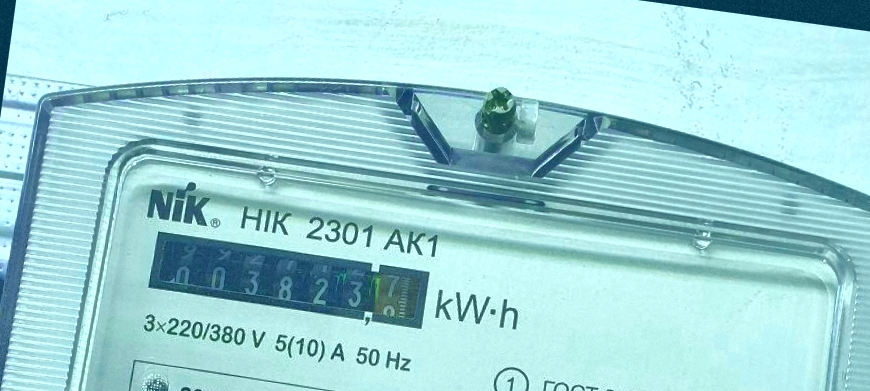0: (205, 261, 228, 291), (171, 261, 192, 286)
2: (308, 273, 331, 308)
3: (343, 277, 365, 309), (240, 265, 262, 296)
7: (382, 272, 401, 302)
8: (274, 272, 294, 302)
9: (176, 240, 197, 261)
screen: (139, 225, 434, 334)
